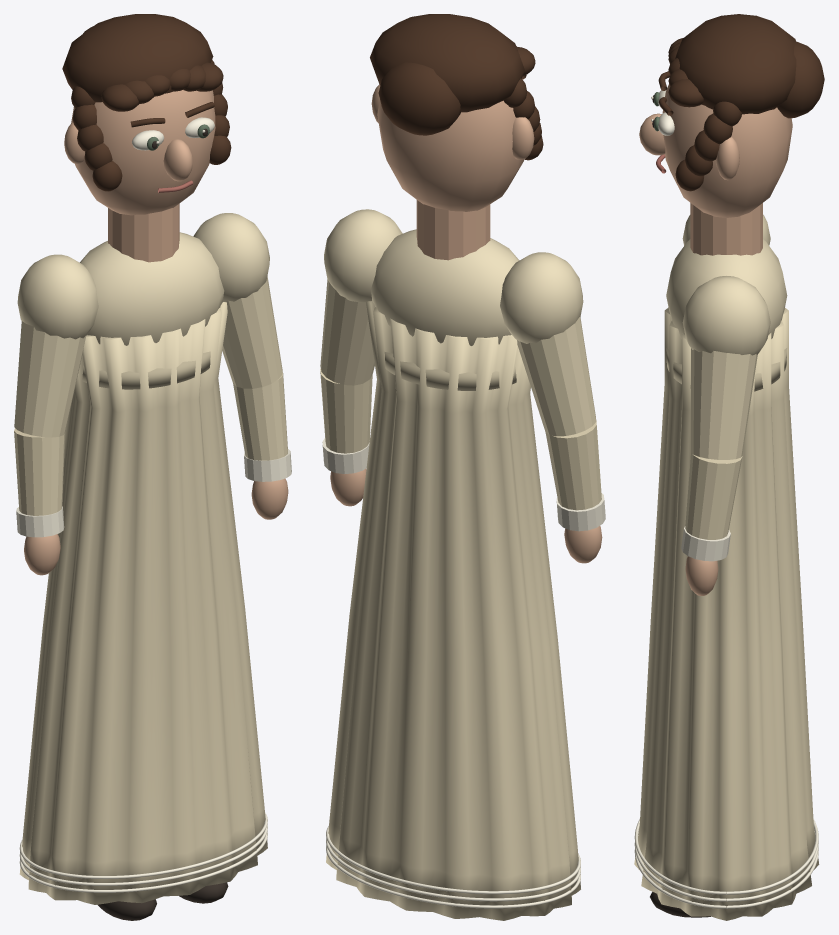
Rendered from elizabeth-bennet.glb.
The picture shows the model from 3 angles, left to right: view 1: azimuth 30°, elevation 25°; view 2: azimuth 150°, elevation 25°; view 3: azimuth 270°, elevation 25°; orthographic projection. The views are drawn at different scales.
Parts seen in each view (by area): view 1: elizabeth-bennet high waist gown, elizabeth-bennet bodice, elizabeth-bennet head, elizabeth-bennet hair crown, elizabeth-bennet sleeve upper, elizabeth-bennet gathered sleeve, elizabeth-bennet sleeve upper.001, elizabeth-bennet gathered sleeve.001, elizabeth-bennet sleeve lower, elizabeth-bennet sleeve lower.001, elizabeth-bennet neck, elizabeth-bennet underbust sash (+12 smaller); view 2: elizabeth-bennet high waist gown, elizabeth-bennet bodice, elizabeth-bennet head, elizabeth-bennet hair crown, elizabeth-bennet sleeve upper, elizabeth-bennet gathered sleeve, elizabeth-bennet gathered sleeve.001, elizabeth-bennet coiled bun, elizabeth-bennet sleeve upper.001, elizabeth-bennet sleeve lower, elizabeth-bennet neck, elizabeth-bennet sleeve lower.001 (+9 smaller); view 3: elizabeth-bennet high waist gown, elizabeth-bennet hair crown, elizabeth-bennet head, elizabeth-bennet sleeve upper.001, elizabeth-bennet gathered sleeve.001, elizabeth-bennet bodice, elizabeth-bennet sleeve lower.001, elizabeth-bennet neck, elizabeth-bennet coiled bun, elizabeth-bennet cuff.001, elizabeth-bennet hem embroidery.002, elizabeth-bennet hand.001 (+11 smaller).
Boxes of the visible parts, x1=… form: elizabeth-bennet high waist gown: x1=19, y1=302, x2=267, y2=904; elizabeth-bennet bodice: x1=80, y1=232, x2=224, y2=345; elizabeth-bennet head: x1=71, y1=90, x2=215, y2=215; elizabeth-bennet hair crown: x1=62, y1=14, x2=213, y2=102; elizabeth-bennet sleeve upper: x1=14, y1=321, x2=86, y2=437; elizabeth-bennet gathered sleeve: x1=17, y1=254, x2=98, y2=339; elizabeth-bennet sleeve upper.001: x1=222, y1=276, x2=282, y2=388; elizabeth-bennet gathered sleeve.001: x1=193, y1=213, x2=269, y2=301; elizabeth-bennet sleeve lower: x1=14, y1=428, x2=64, y2=515; elizabeth-bennet sleeve lower.001: x1=233, y1=372, x2=287, y2=460; elizabeth-bennet neck: x1=108, y1=203, x2=179, y2=262; elizabeth-bennet underbust sash: x1=82, y1=351, x2=210, y2=389; elizabeth-bennet high waist gown: x1=326, y1=301, x2=580, y2=920; elizabeth-bennet bodice: x1=371, y1=229, x2=519, y2=345; elizabeth-bennet head: x1=377, y1=100, x2=524, y2=211; elizabeth-bennet hair crown: x1=370, y1=14, x2=524, y2=112; elizabeth-bennet sleeve upper: x1=517, y1=317, x2=596, y2=436; elizabeth-bennet gathered sleeve: x1=500, y1=252, x2=583, y2=343; elizabeth-bennet gathered sleeve.001: x1=324, y1=209, x2=402, y2=302; elizabeth-bennet coiled bun: x1=378, y1=62, x2=460, y2=135; elizabeth-bennet sleeve upper.001: x1=320, y1=279, x2=374, y2=385; elizabeth-bennet sleeve lower: x1=545, y1=421, x2=601, y2=510; elizabeth-bennet neck: x1=416, y1=200, x2=490, y2=260; elizabeth-bennet sleeve lower.001: x1=320, y1=368, x2=372, y2=453; elizabeth-bennet high waist gown: x1=634, y1=307, x2=819, y2=920; elizabeth-bennet hair crown: x1=675, y1=14, x2=796, y2=114; elizabeth-bennet head: x1=662, y1=83, x2=792, y2=217; elizabeth-bennet sleeve upper.001: x1=691, y1=348, x2=757, y2=459; elizabeth-bennet gathered sleeve.001: x1=682, y1=276, x2=770, y2=355; elizabeth-bennet bodice: x1=666, y1=239, x2=787, y2=338; elizabeth-bennet sleeve lower.001: x1=685, y1=452, x2=742, y2=539; elizabeth-bennet neck: x1=690, y1=203, x2=762, y2=255; elizabeth-bennet coiled bun: x1=777, y1=41, x2=824, y2=118; elizabeth-bennet cuff.001: x1=681, y1=526, x2=730, y2=561; elizabeth-bennet hem embroidery.002: x1=634, y1=818, x2=818, y2=894; elizabeth-bennet hand.001: x1=685, y1=556, x2=718, y2=595.
Bounding box in the file's own units: 0.566 × 1.75 × 0.346.
